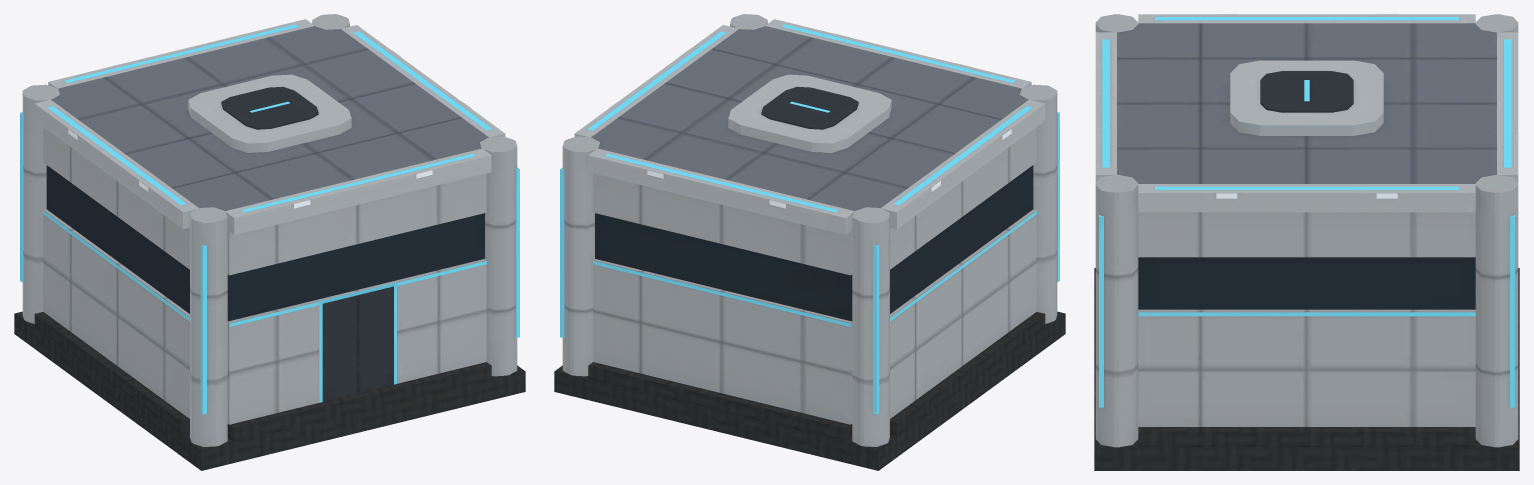
The model's file is hull_enterprise_hull_standard_closed.glb.
3 views of the same model, side by side, from view 1: azimuth 30°, elevation 25°; view 2: azimuth 150°, elevation 25°; view 3: azimuth 270°, elevation 25° (orthographic). The views are drawn at different scales.
Parts seen in each view (by area): view 1: te_hull_enterprise_hull_standard_closed; view 2: te_hull_enterprise_hull_standard_closed; view 3: te_hull_enterprise_hull_standard_closed.
Boxes of the visible parts, box(x1,y1,x2,y2) form: te_hull_enterprise_hull_standard_closed: box(14, 14, 525, 470); te_hull_enterprise_hull_standard_closed: box(554, 14, 1065, 470); te_hull_enterprise_hull_standard_closed: box(1094, 14, 1519, 470).
Bounding box in the file's own units: 1 × 0.7536 × 1.
Materials: 1 (1 with a texture image).
